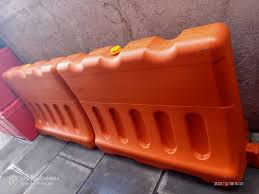barrier: (56, 22, 256, 177), (7, 46, 97, 153)
